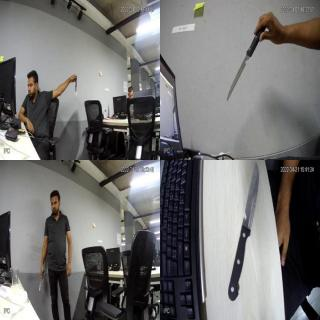knife: (224, 162, 260, 300), (227, 22, 267, 102), (38, 273, 45, 291), (73, 80, 77, 100)
